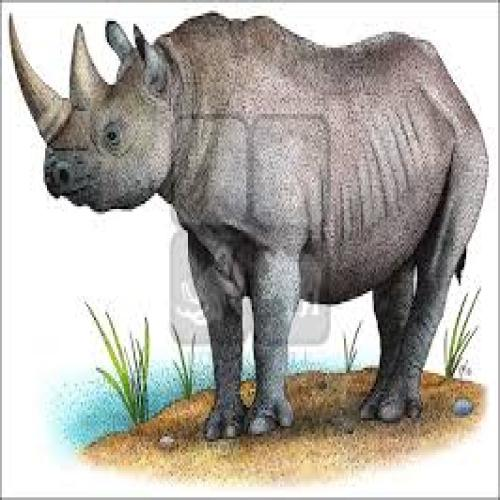rhino-endangered: (0, 0, 485, 443)
